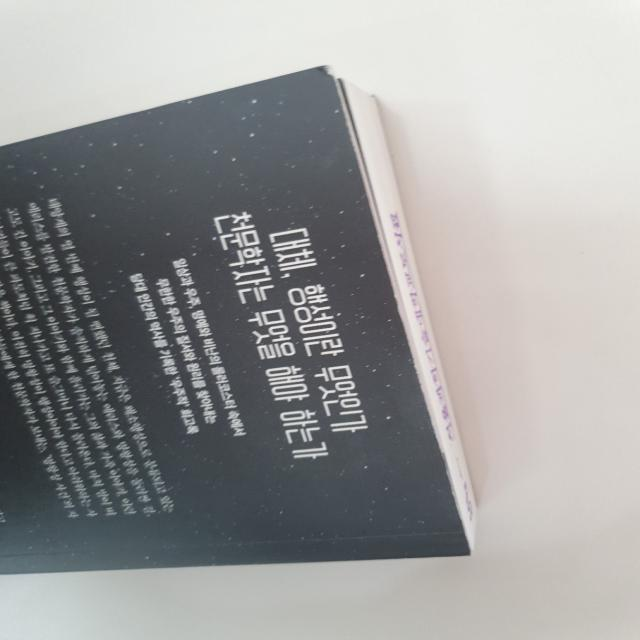Wornout: (306, 57, 346, 91)
